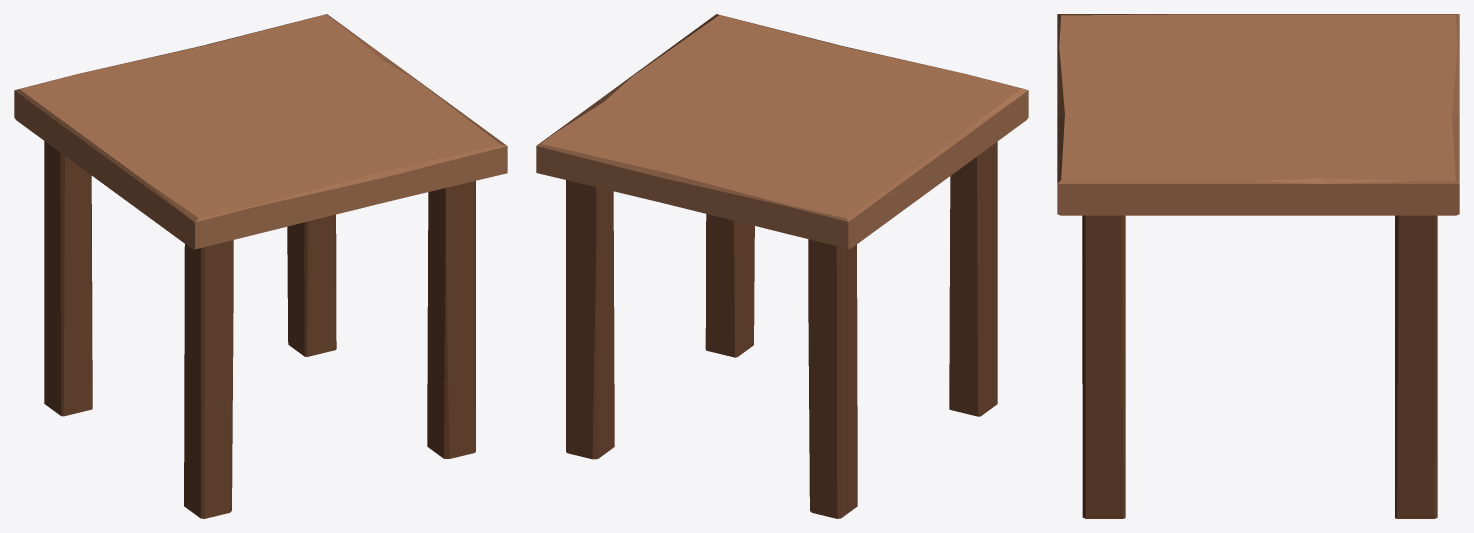
Rendered from Object_Desk.fbx.
3 renders of one model, left to right at view 1: azimuth 30°, elevation 25°; view 2: azimuth 150°, elevation 25°; view 3: azimuth 270°, elevation 25°, orthographic. The views are drawn at different scales.
Parts seen in each view (by area): view 1: Object_Desk; view 2: Object_Desk; view 3: Object_Desk.
Boxes of the visible parts, x1,y1,x2,y2 form: Object_Desk: [14, 14, 507, 518]; Object_Desk: [536, 14, 1028, 518]; Object_Desk: [1057, 14, 1459, 518].
Size of the model in its own units: 15.75 by 14.98 by 15.75.
Materials: 1 (1 with a texture image).
